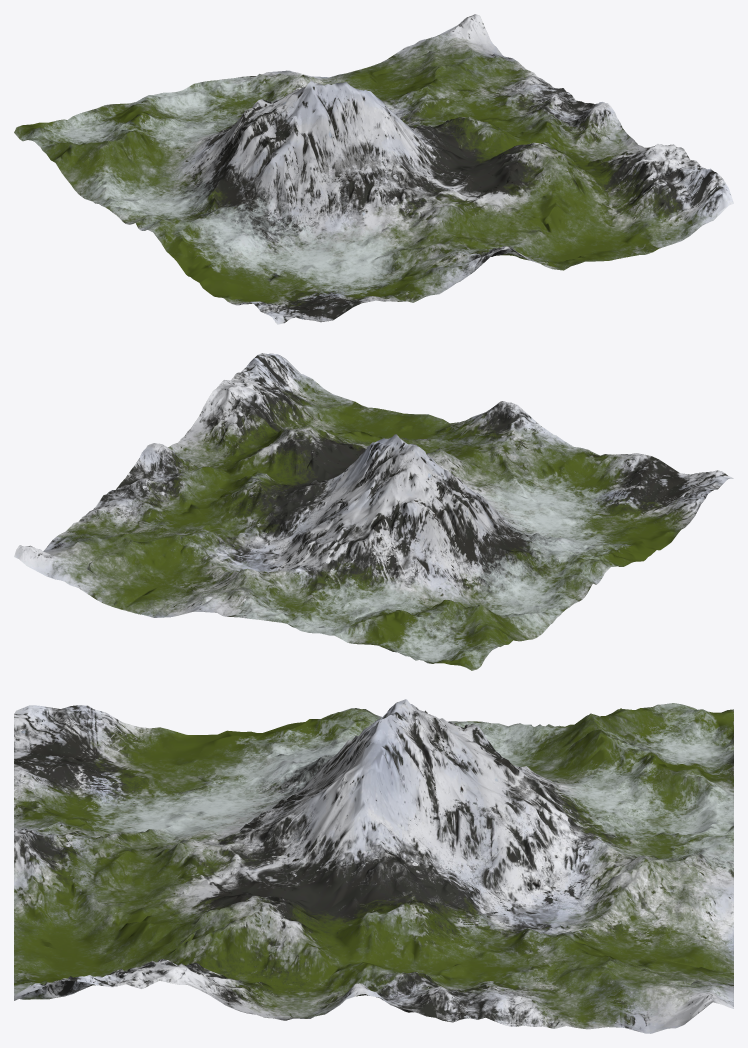
3 renders of one model, top to bottom at view 1: azimuth 30°, elevation 25°; view 2: azimuth 150°, elevation 25°; view 3: azimuth 270°, elevation 25°, orthographic. The views are drawn at different scales.
Parts seen in each view (by area): view 1: g; view 2: g; view 3: g.
Boxes of the visible parts, left/top/right/bottom form: g: left=14, top=14, right=733, bottom=324; g: left=14, top=353, right=733, bottom=670; g: left=14, top=699, right=733, bottom=1033.
Size of the model in its own units: 2.25 by 0.5578 by 2.25.
1 material, 1 textured.
